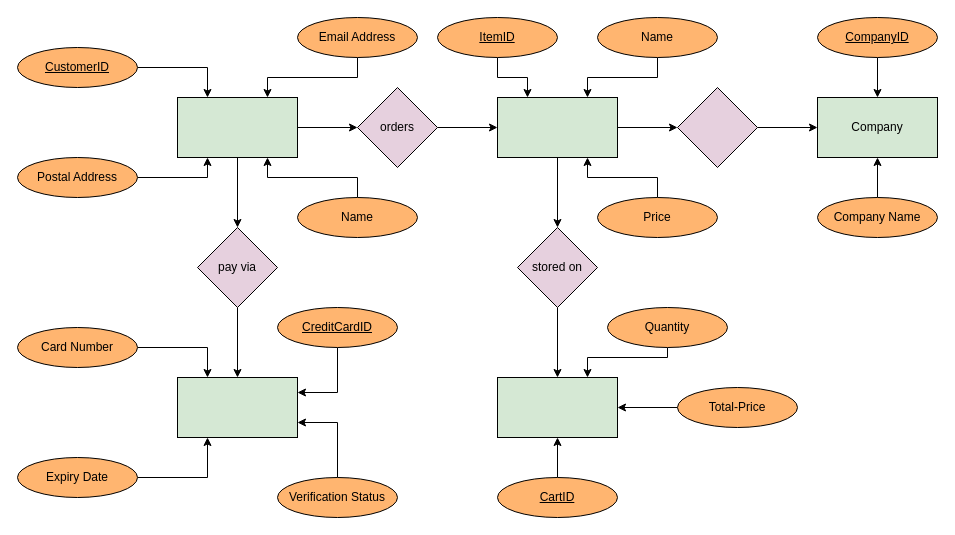
Some shapes in this 955 by 535 pixel diagram are drawn without their labels. Each missing label, with the centre of its shape:
"Credit Card" goes at [237,407].
"Customer" goes at [237,127].
"Items" goes at [557,127].
"produced by" goes at [717,127].
"Shopping Cart" goes at [557,407].
